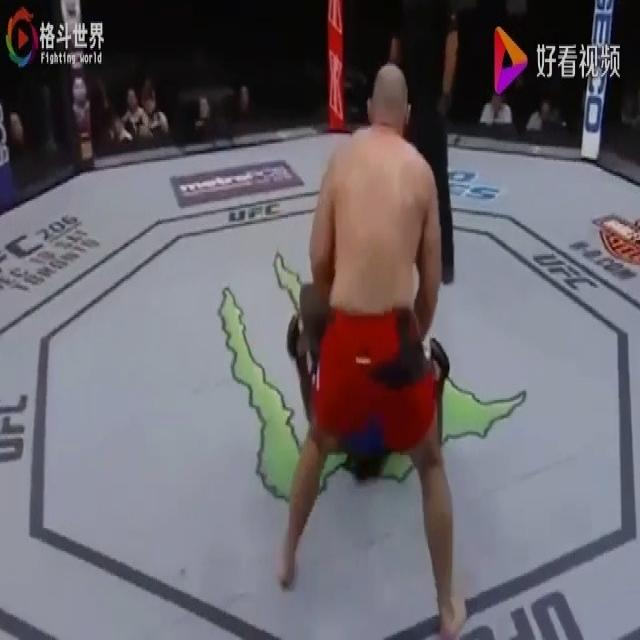fight: (252, 50, 485, 638)
